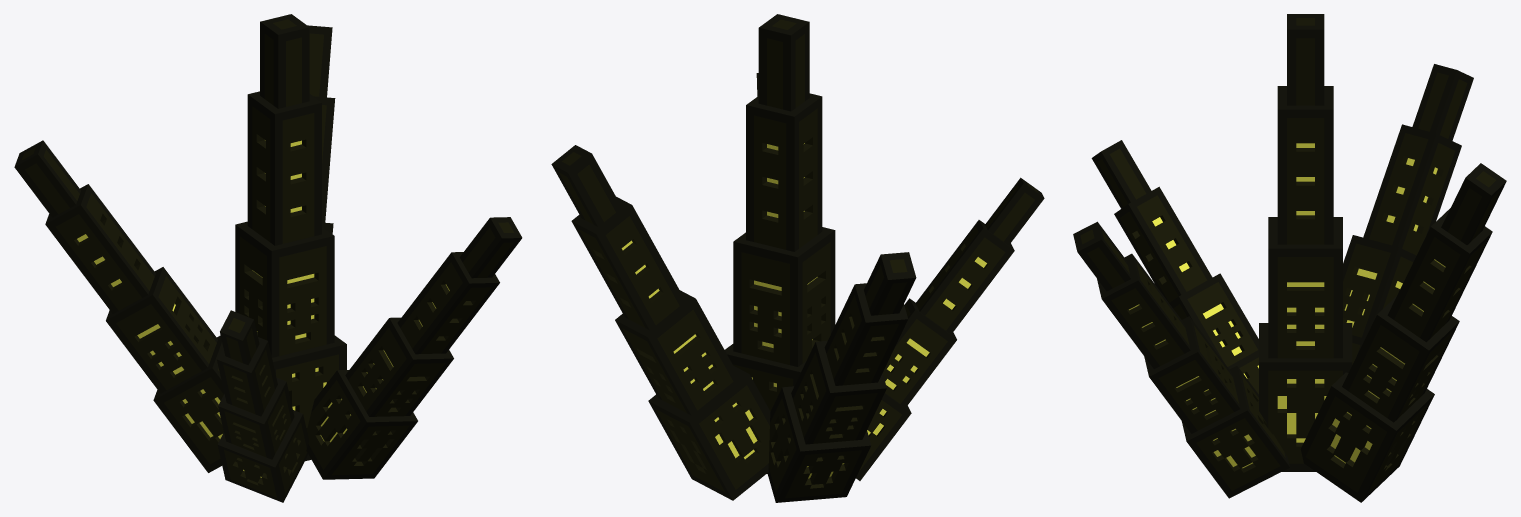
The model's file is Yellow Guardian Spikes.fbx.
The picture shows the model from 3 angles, left to right: view 1: azimuth 30°, elevation 25°; view 2: azimuth 150°, elevation 25°; view 3: azimuth 270°, elevation 25°; orthographic projection. The views are drawn at different scales.
Parts seen in each view (by area): view 1: Yellow Guardian Spike 1, Yellow Guardian Spike 4, Yellow Guardian Spike 3, Yellow Guardian Spike 5, Yellow Guardian Spike 2; view 2: Yellow Guardian Spike 1, Yellow Guardian Spike 2, Yellow Guardian Spike 4, Yellow Guardian Spike 5; view 3: Yellow Guardian Spike 1, Yellow Guardian Spike 2, Yellow Guardian Spike 3, Yellow Guardian Spike 4, Yellow Guardian Spike 5.
Part boxes in pixels (box(x1,y1,x2,y2)): Yellow Guardian Spike 1: box(235, 14, 346, 461); Yellow Guardian Spike 4: box(14, 140, 224, 472); Yellow Guardian Spike 3: box(306, 217, 522, 479); Yellow Guardian Spike 5: box(217, 310, 308, 502); Yellow Guardian Spike 2: box(307, 25, 335, 233); Yellow Guardian Spike 1: box(725, 14, 835, 473); Yellow Guardian Spike 2: box(551, 145, 770, 500); Yellow Guardian Spike 4: box(767, 252, 916, 502); Yellow Guardian Spike 5: box(856, 177, 1044, 480); Yellow Guardian Spike 1: box(1259, 14, 1352, 471); Yellow Guardian Spike 2: box(1300, 163, 1506, 502); Yellow Guardian Spike 3: box(1073, 221, 1289, 498); Yellow Guardian Spike 4: box(1343, 64, 1473, 364); Yellow Guardian Spike 5: box(1091, 140, 1258, 394).
Size of the model in its own units: 1.3 by 1.42 by 1.66.
1 material, 1 textured.
